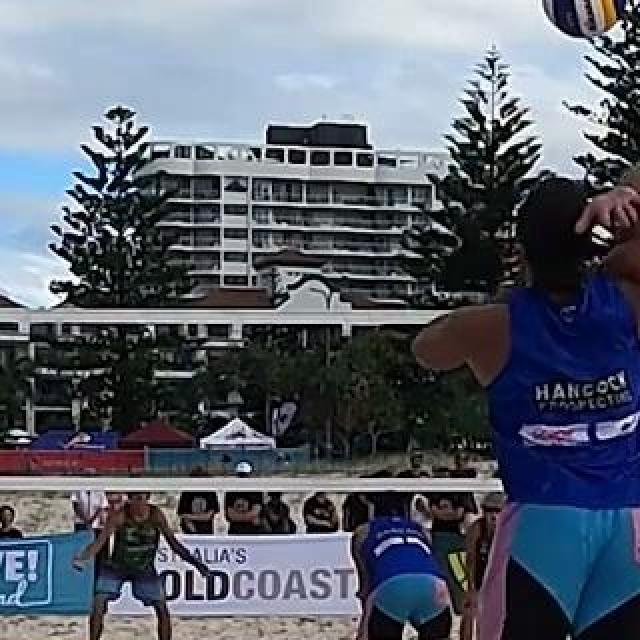volleyball: (540, 0, 628, 34)
